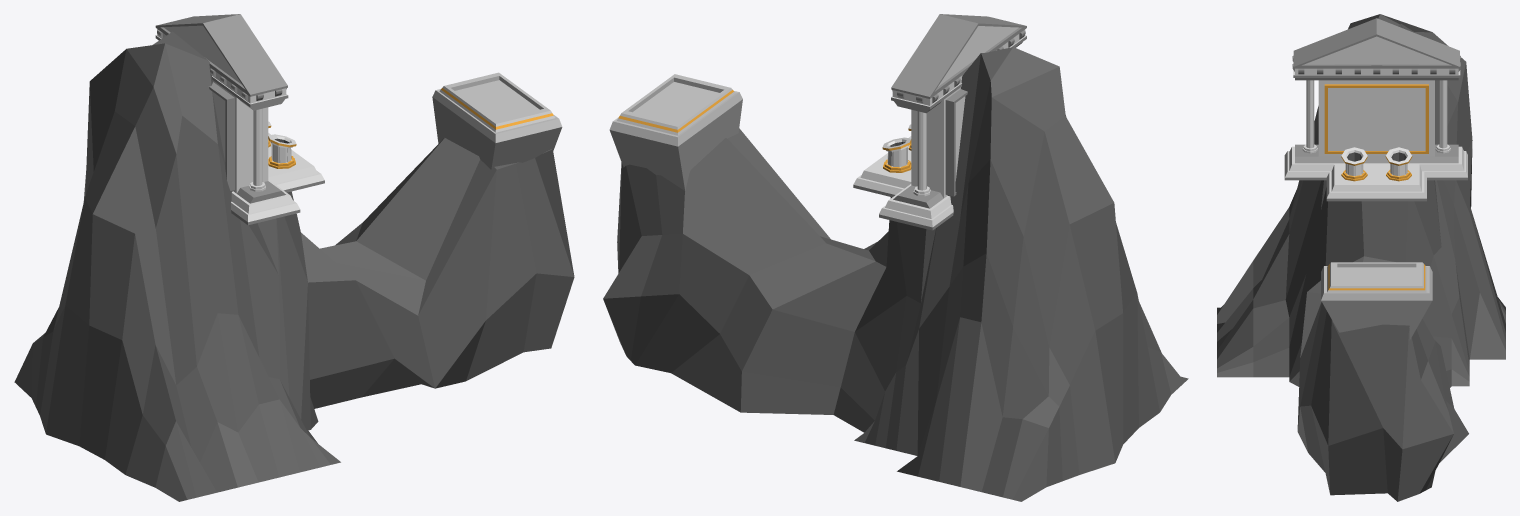
The model's file is MaquinaExpendedora.fbx.
The picture shows the model from 3 angles, left to right: view 1: azimuth 30°, elevation 25°; view 2: azimuth 150°, elevation 25°; view 3: azimuth 270°, elevation 25°; orthographic projection. The views are drawn at different scales.
Visible parts, largest first — view 1: MontañasTwins_Nuevas; view 2: MontañasTwins_Nuevas; view 3: MontañasTwins_Nuevas.
Boxes of the visible parts, x1,y1,x2,y2 form: MontañasTwins_Nuevas: [14, 14, 574, 501]; MontañasTwins_Nuevas: [603, 14, 1188, 501]; MontañasTwins_Nuevas: [1217, 14, 1505, 501].
Size of the model in its own units: 4525 by 3369 by 2603.
